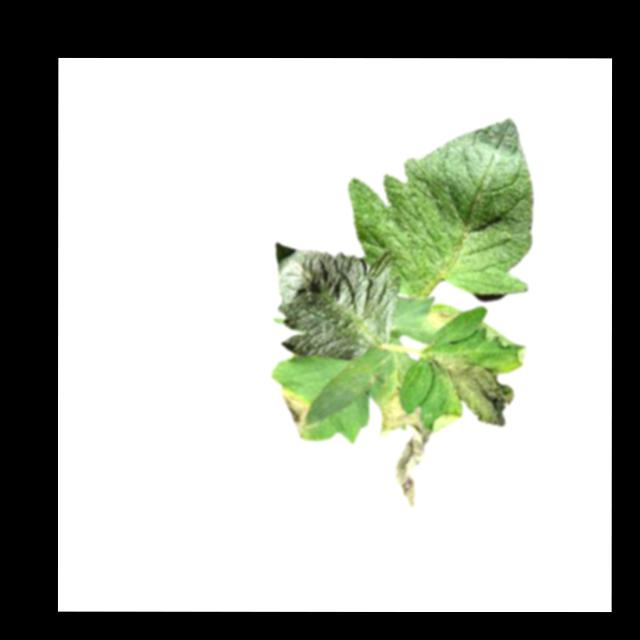Late_blight: (426, 349, 524, 426), (378, 388, 437, 511), (278, 388, 314, 442), (424, 308, 459, 331)
healthy: (347, 116, 535, 297), (273, 243, 399, 360)
